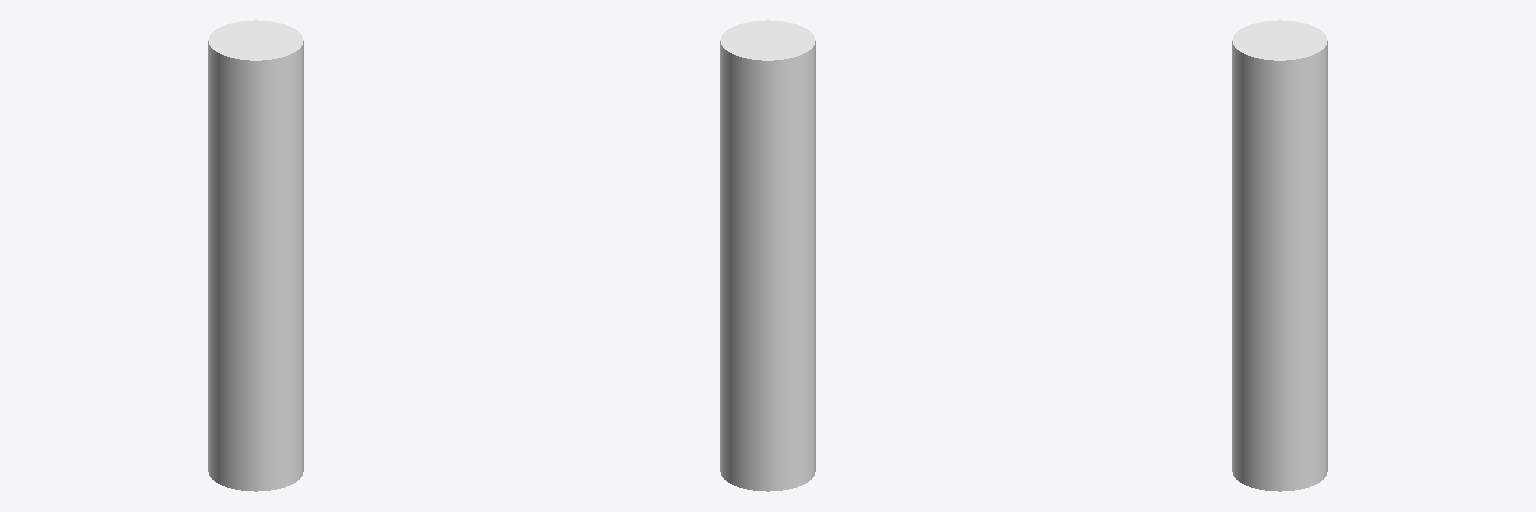
URDF robot description (xarm6_with_gripper):
<?xml version="1.0" encoding="utf-8"?>
<!-- =================================================================================== -->
<!-- |    This document was autogenerated by xacro from xarm6_with_gripper.xacro       | -->
<!-- |    EDITING THIS FILE BY HAND IS NOT RECOMMENDED                                 | -->
<!-- =================================================================================== -->
<robot name="xarm6_with_gripper">
  <!-- <xacro:load_gripper attach_to="$(arg prefix)link6" /> -->
  <!--
  Author: [author] <[email redacted]>
  Contributers:
-->
  <gazebo>
    <plugin filename="libgazebo_ros_control.so" name="gazebo_ros_control">
      <robotNamespace>/xarm</robotNamespace>
      <!-- <controlPeriod>0.0001</controlPeriod> -->
      <robotSimType>gazebo_ros_control/DefaultRobotHWSim</robotSimType>
      <legacyModeNS>true</legacyModeNS>
      <!-- <preserveWorldVelocity>true</preserveWorldVelocity> -->
    </plugin>
  </gazebo>
  <link name="world"/>
  <joint name="world_joint" type="fixed">
    <parent link="world"/>
    <child link="link_base"/>
    <origin rpy="0 0 0" xyz="0 0 0"/>
  </joint>
  <material name="Black">
    <color rgba="0.0 0.0 0.0 1.0"/>
  </material>
  <material name="Red">
    <color rgba="0.8 0.0 0.0 1.0"/>
  </material>
  <material name="White">
    <color rgba="1.0 1.0 1.0 1.0"/>
  </material>
  <material name="Silver">
    <color rgba="0.753 0.753 0.753 1.0"/>
  </material>
  <link name="link_base">
    <visual>
      <geometry>
        <mesh filename="xarm_description/meshes/xarm6/visual/base.obj"/>
      </geometry>
      <origin rpy="0 0 0" xyz="0 0 0"/>
      <material name="White"/>
    </visual>
    <collision>
      <geometry>
        <mesh filename="xarm_description/meshes/xarm6/collision/base_vhacd.obj"/>
      </geometry>
      <origin rpy="0 0 0" xyz="0 0 0"/>
    </collision>
    <inertial>
      <origin rpy="0 0 0" xyz="0.0 0.0 0.09103"/>
      <mass value="2.7"/>
      <inertia ixx="0.00494875" ixy="-3.5E-06" ixz="1.25E-05" iyy="0.00494174" iyz="1.67E-06" izz="0.002219"/>
    </inertial>
  </link>
  <link name="link1">
    <visual>
      <geometry>
        <mesh filename="xarm_description/meshes/xarm6/visual/link1.obj"/>
      </geometry>
      <origin rpy="0 0 0" xyz="0 0 0"/>
      <material name="White"/>
    </visual>
    <collision>
      <geometry>
        <mesh filename="xarm_description/meshes/xarm6/collision/link1_vhacd.obj"/>
      </geometry>
      <origin rpy="0 0 0" xyz="0 0 0"/>
    </collision>
    <inertial>
      <origin rpy="0 0 0" xyz="-0.002 0.02692 -0.01332"/>
      <mass value="2.16"/>
      <inertia ixx="0.00539427" ixy="1.095E-05" ixz="1.635E-06" iyy="0.0048979" iyz="0.000793" izz="0.00311573"/>
    </inertial>
  </link>
  <joint name="joint1" type="revolute">
    <parent link="link_base"/>
    <child link="link1"/>
    <origin rpy="0 0 0" xyz="0 0 0.267"/>
    <axis xyz="0 0 1"/>
    <limit effort="50.0" lower="-6.28318530718" upper="6.28318530718" velocity="3.14"/>
    <dynamics damping="1.0" friction="1.0"/>
  </joint>
  <link name="link2">
    <visual>
      <geometry>
        <mesh filename="xarm_description/meshes/xarm6/visual/link2.obj"/>
      </geometry>
      <origin rpy="0 0 0" xyz="0 0 0"/>
      <material name="White"/>
      	
    </visual>
    <collision>
      <geometry>
        <mesh filename="xarm_description/meshes/xarm6/collision/link2_vhacd2.obj"/>
      </geometry>
      <origin rpy="0 0 0" xyz="0 0 0"/>
    </collision>
    <inertial>
      <origin rpy="0 0 0" xyz="0.03531 -0.21398 0.03386"/>
      <mass value="1.71"/>
      <inertia ixx="0.0248674" ixy="-0.00430651" ixz="-0.00067797" iyy="0.00485548" iyz="0.00457245" izz="0.02387827"/>
    </inertial>
  </link>
  <joint name="joint2" type="revolute">
    <parent link="link1"/>
    <child link="link2"/>
    <origin rpy="-1.5708 0 0" xyz="0 0 0"/>
    <axis xyz="0 0 1"/>
    <limit effort="50.0" lower="-2.059" upper="2.0944" velocity="3.14"/>
    <dynamics damping="1.0" friction="1.0"/>
  </joint>
  <link name="link3">
    <visual>
      <geometry>
        <mesh filename="xarm_description/meshes/xarm6/visual/link3.obj"/>
      </geometry>
      <origin rpy="0 0 0" xyz="0 0 0"/>
      <material name="White"/>
    </visual>
    <collision>
      <geometry>
        <mesh filename="xarm_description/meshes/xarm6/collision/link3_vhacd.obj"/>
      </geometry>
      <origin rpy="0 0 0" xyz="0 0 0"/>
    </collision>
    <inertial>
      <origin rpy="0 0 0" xyz="0.06781 0.10749 0.01457"/>
      <mass value="1.384"/>
      <inertia ixx="0.0053694" ixy="0.0014185" ixz="-0.00092094" iyy="0.0032423" iyz="-0.00169178" izz="0.00501731"/>
    </inertial>
  </link>
  <joint name="joint3" type="revolute">
    <parent link="link2"/>
    <child link="link3"/>
    <origin rpy="0 0 0" xyz="0.0535 -0.2845 0"/>
    <axis xyz="0 0 1"/>
    <limit effort="32.0" lower="-3.927" upper="0.19198" velocity="3.14"/>
    <dynamics damping="1.0" friction="1.0"/>
  </joint>
  <link name="link4">
    <visual>
      <geometry>
        <mesh filename="xarm_description/meshes/xarm6/visual/link4.obj"/>
      </geometry>
      <origin rpy="0 0 0" xyz="0 0 0"/>
      <material name="White"/>
    </visual>
    <collision>
      <geometry>
        <mesh filename="xarm_description/meshes/xarm6/collision/link4_vhacd.obj"/>
      </geometry>
      <origin rpy="0 0 0" xyz="0 0 0"/>
    </collision>
    <inertial>
      <origin rpy="0 0 0" xyz="-0.00021 0.02578 -0.02538"/>
      <mass value="1.115"/>
      <inertia ixx="0.00439263" ixy="5.028E-05" ixz="1.374E-05" iyy="0.0040077" iyz="0.00045338" izz="0.00110321"/>
    </inertial>
  </link>
  <joint name="joint4" type="revolute">
    <parent link="link3"/>
    <child link="link4"/>
    <origin rpy="-1.5708 0 0" xyz="0.0775 0.3425 0"/>
    <axis xyz="0 0 1"/>
    <limit effort="32.0" lower="-6.28318530718" upper="6.28318530718" velocity="3.14"/>
    <dynamics damping="1.0" friction="1.0"/>
  </joint>
  <link name="link5">
    <visual>
      <geometry>
        <mesh filename="xarm_description/meshes/xarm6/visual/link5.obj"/>
      </geometry>
      <origin rpy="0 0 0" xyz="0 0 0"/>
      <material name="White"/>
    </visual>
    <collision>
      <geometry>
        <mesh filename="xarm_description/meshes/xarm6/collision/link5_vhacd.obj"/>
      </geometry>
      <origin rpy="0 0 0" xyz="0 0 0"/>
    </collision>
    <inertial>
      <origin rpy="0 0 0" xyz="0.05428 0.01781 0.00543"/>
      <mass value="1.275"/>
      <inertia ixx="0.001202758" ixy="0.000492428" ixz="-0.00039147" iyy="0.0022876" iyz="-1.235E-04" izz="0.0026866"/>
    </inertial>
  </link>
  <joint name="joint5" type="revolute">
    <parent link="link4"/>
    <child link="link5"/>
    <origin rpy="1.5708 0 0" xyz="0 0 0"/>
    <axis xyz="0 0 1"/>
    <limit effort="32.0" lower="-1.69297" upper="3.14159265359" velocity="3.14"/>
    <dynamics damping="1.0" friction="1.0"/>
  </joint>
  <link name="link6">
    <visual>
      <geometry>
        <mesh filename="xarm_description/meshes/xarm6/visual/link6.obj"/>
      </geometry>
      <origin rpy="0 0 0" xyz="0 0 0"/>
      <material name="Silver"/>
    </visual>
    <collision>
      <geometry>
        <mesh filename="xarm_description/meshes/xarm6/visual/link6.obj"/>
      </geometry>
      <origin rpy="0 0 0" xyz="0 0 0"/>
    </collision>
    <inertial>
      <origin rpy="0 0 0" xyz="0 0.00064 -0.00952"/>
      <mass value="0.1096"/>
      <inertia ixx="4.5293E-05" ixy="0" ixz="0" iyy="4.8111E-05" iyz="0" izz="7.9715E-05"/>
    </inertial>
  </link>
  <joint name="joint6" type="revolute">
    <parent link="link5"/>
    <child link="link6"/>
    <origin rpy="-1.5708 0 0" xyz="0.076 0.097 0"/>
    <axis xyz="0 0 1"/>
    <limit effort="20.0" lower="-6.28318530718" upper="6.28318530718" velocity="3.14"/>
    <dynamics damping="1.0" friction="1.0"/>
  </joint>
  <transmission name="tran1">
    <type>transmission_interface/SimpleTransmission</type>
    <joint name="joint1">
      <hardwareInterface>hardware_interface/PositionJointInterface</hardwareInterface>
    </joint>
    <actuator name="motor1">
      <hardwareInterface>hardware_interface/PositionJointInterface</hardwareInterface>
      <mechanicalReduction>100</mechanicalReduction>
    </actuator>
  </transmission>
  <transmission name="tran2">
    <type>transmission_interface/SimpleTransmission</type>
    <joint name="joint2">
      <hardwareInterface>hardware_interface/PositionJointInterface</hardwareInterface>
    </joint>
    <actuator name="motor2">
      <hardwareInterface>hardware_interface/PositionJointInterface</hardwareInterface>
      <mechanicalReduction>reduction</mechanicalReduction>
    </actuator>
  </transmission>
  <transmission name="tran3">
    <type>transmission_interface/SimpleTransmission</type>
    <joint name="joint3">
      <hardwareInterface>hardware_interface/PositionJointInterface</hardwareInterface>
    </joint>
    <actuator name="motor3">
      <hardwareInterface>hardware_interface/PositionJointInterface</hardwareInterface>
      <mechanicalReduction>reduction</mechanicalReduction>
    </actuator>
  </transmission>
  <transmission name="tran4">
    <type>transmission_interface/SimpleTransmission</type>
    <joint name="joint4">
      <hardwareInterface>hardware_interface/PositionJointInterface</hardwareInterface>
    </joint>
    <actuator name="motor3">
      <hardwareInterface>hardware_interface/PositionJointInterface</hardwareInterface>
      <mechanicalReduction>reduction</mechanicalReduction>
    </actuator>
  </transmission>
  <transmission name="tran5">
    <type>transmission_interface/SimpleTransmission</type>
    <joint name="joint5">
      <hardwareInterface>hardware_interface/PositionJointInterface</hardwareInterface>
    </joint>
    <actuator name="motor5">
      <hardwareInterface>hardware_interface/PositionJointInterface</hardwareInterface>
      <mechanicalReduction>reduction</mechanicalReduction>
    </actuator>
  </transmission>
  <transmission name="tran6">
    <type>transmission_interface/SimpleTransmission</type>
    <joint name="joint6">
      <hardwareInterface>hardware_interface/PositionJointInterface</hardwareInterface>
    </joint>
    <actuator name="motor6">
      <hardwareInterface>hardware_interface/PositionJointInterface</hardwareInterface>
      <mechanicalReduction>reduction</mechanicalReduction>
    </actuator>
  </transmission>
  <gazebo reference="link_base">
    <selfCollide>true</selfCollide>
  </gazebo>
  <gazebo reference="link1">
    <selfCollide>true</selfCollide>
  </gazebo>
  <gazebo reference="link2">
    <selfCollide>true</selfCollide>
  </gazebo>
  <gazebo reference="link3">
    <selfCollide>true</selfCollide>
  </gazebo>
  <gazebo reference="link4">
    <selfCollide>true</selfCollide>
  </gazebo>
  <gazebo reference="link5">
    <selfCollide>true</selfCollide>
  </gazebo>
  <gazebo reference="link6">
    <selfCollide>true</selfCollide>
  </gazebo>
  <!-- gazebo plugin -->
  <!-- <xacro:gazebo_ros_control_plugin namespace="${ns}"/> -->
  <joint name="gripper_fix" type="fixed">
    <parent link="link6"/>
    <child link="xarm_gripper_base_link"/>
    <origin rpy="0 0 0" xyz="0 0 0"/>
  </joint>
  <link name="xarm_gripper_base_link">
    <inertial>
      <origin rpy="0 0 0" xyz="-0.00065489 -0.0018497 0.048028"/>
      <mass value="0.54156"/>
      <inertia ixx="0.00047106" ixy="3.9292E-07" ixz="2.6537E-06" iyy="0.00033072" iyz="-1.0975E-05" izz="0.00025642"/>
    </inertial>
    <visual>
      <origin rpy="0 0 0" xyz="0 0 0"/>
      <geometry>
        <mesh filename="xarm_gripper/meshes/cynlinder.obj"/>
      </geometry>
      <material name="White">
        <color rgba="1.0 1.0 1.0 1.0"/>
      </material>
    </visual>
    <collision>
      <origin rpy="0 0 0" xyz="0 0 0"/>
      <geometry>
        <!-- <mesh filename="xarm_gripper/meshes/finger_v2.obj"/> -->
        <mesh filename="xarm_gripper/meshes/finger.obj"/>
      </geometry>
    </collision>
  </link>
  <transmission name="drive_joint_trans">
    <type>transmission_interface/SimpleTransmission</type>
    <joint name="drive_joint">
      <hardwareInterface>hardware_interface/PositionJointInterface</hardwareInterface>
    </joint>
    <actuator name="drive_joint_motor">
      <hardwareInterface>hardware_interface/PositionJointInterface</hardwareInterface>
      <mechanicalReduction>1</mechanicalReduction>
    </actuator>
  </transmission>
  <gazebo reference="xarm_gripper_base_link">
    <selfCollide>true</selfCollide>
  </gazebo>
</robot>

--- Render facts (derived) ---
3 views of the same robot in one strip: view 1: azimuth 30°, elevation 25°; view 2: azimuth 150°, elevation 25°; view 3: azimuth 270°, elevation 25° (orthographic).
Robot: xarm6_with_gripper — 9 links, 8 joints (6 revolute, 2 fixed); root link world; default pose: all joints at 0.
Visible links, largest first — view 1: xarm_gripper_base_link; view 2: xarm_gripper_base_link; view 3: xarm_gripper_base_link.
Link boxes in pixels (left/top/right/bottom): xarm_gripper_base_link: left=208, top=20, right=303, bottom=491; xarm_gripper_base_link: left=720, top=20, right=815, bottom=491; xarm_gripper_base_link: left=1232, top=20, right=1327, bottom=491.
Size in the robot's own frame: 0.02 by 0.02 by 0.1 metres.
1 mesh visuals loaded from 8 distinct referenced files (1 OBJ); not drawn: 7 (reference not matched to a file when rendering).